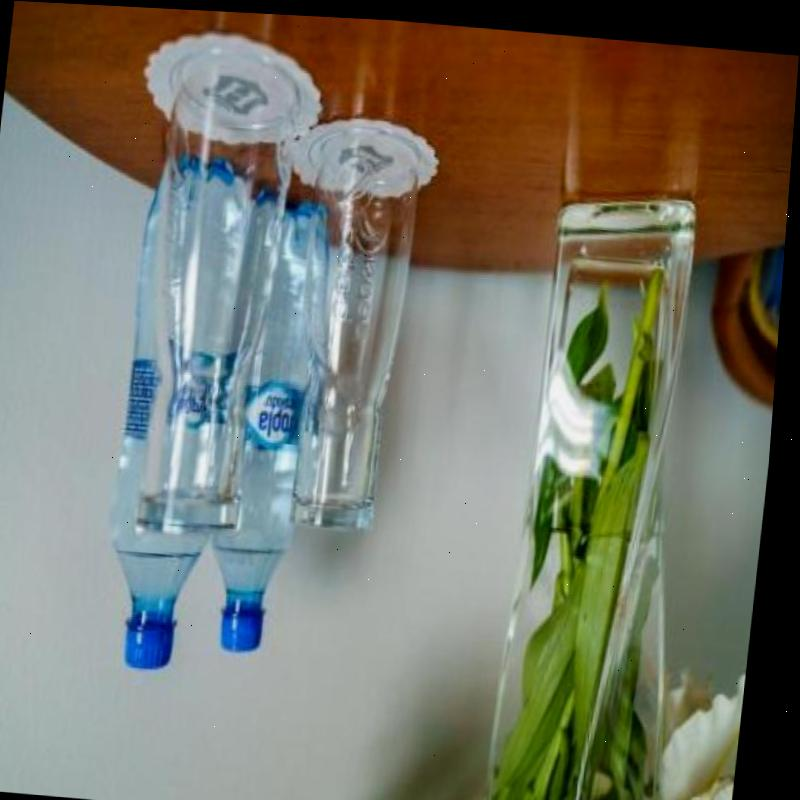botella: (104, 151, 258, 671), (210, 185, 338, 656)
